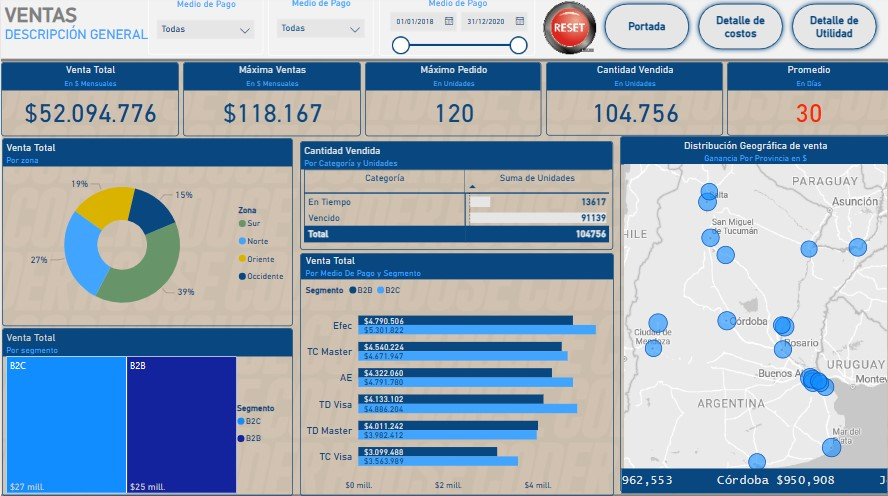

The dashboard page shown, as its layout file describes it:
{"tool":"powerbi","page":{"name":"Detalle de Ventas","canvas":[1280,720],"ordinal":2},"visuals":[{"type":"card","title":"Promedio","fields":{"Values":["Dax Medidas.AVG Dif Días"]},"box":[1046,95.4,234,106],"z":0},{"type":"treemap","title":"Venta Total","fields":{"Group":["Dim_Vendedores.Segmento"],"Values":["Dax Medidas.Total de Ventas"]},"box":[1,478,419,242],"z":1000},{"type":"textbox","box":[0,5.8,237.6,82.1],"z":2000},{"type":"slicer","title":"Medio de Pago","fields":{"Values":["Dim_Territorios.Ciudad"]},"box":[211,2.1,165.7,82.8],"z":3000},{"type":"slicer","title":"Medio de Pago","fields":{"Values":["Tiempo.Fecha"]},"box":[543.9,0.5,225.1,86],"z":4000},{"type":"slicer","title":"Medio de Pago","fields":{"Values":["Dim_Medios_de_Pago.Categoría de pago"]},"box":[384.5,0.5,151.6,86],"z":5000},{"type":"card","title":"Venta Total","fields":{"Values":["Dax Medidas.Total de Ventas"]},"box":[0,95,255.7,106.8],"z":6000},{"type":"card","title":"Máximo Pedido","fields":{"Values":["Dax Medidas.Max pedido de unidades"]},"box":[524.1,95,254.2,106.8],"z":7000},{"type":"map","title":"Distribución Geográfica de venta","fields":{"Size":["Dax Medidas.Total de Ventas"],"Y":["Dim_Territorios.Latitud"],"X":["Dim_Territorios.Longitud"]},"box":[891.4,201.6,388.8,512.6],"z":8000},{"type":"ScrollingTextVisual1448795304508","fields":{"Measure Absolute":["Dax Medidas.Rentabilidad"],"Category":["Dim_Territorios.Ciudad"]},"box":[888.5,675.4,391.7,44.6],"z":9000},{"type":"card","title":"Máxima Ventas","fields":{"Values":["Dax Medidas.Máxima Venta ($)"]},"box":[262.1,95,255.7,106.8],"z":10000},{"type":"donutChart","title":"Venta Total","fields":{"Category":["Dim_Vendedores.Zona"],"Y":["Dax Medidas.Total de Ventas"]},"box":[1,204,419,270.7],"z":11000},{"type":"clusteredBarChart","title":"Venta Total","fields":{"Category":["Dim_Medios_de_Pago.Descripción Abreviada"],"Y":["Dax Medidas.Total de Ventas"],"Series":["Dim_Vendedores.Segmento"]},"box":[430.6,370.1,452,349.9],"z":12000},{"type":"card","title":"Cantidad Vendida","fields":{"Values":["Dax Medidas.Total de Cantidades Vendidas"]},"box":[784.6,95.4,255,106],"z":13000},{"type":"pivotTable","title":"Cantidad Vendida","fields":{"Rows":["Fact_Ventas.Categoría"],"Values":["Sum(Fact_Ventas.Cantidad )"]},"box":[430,208.6,451.4,157],"z":14000},{"type":"pageNavigator","box":[862.7,4.7,406.3,79.7],"z":15000},{"type":"image","box":[768.9,3.1,100,86],"z":16000}]}

Visuals, with their boxes in screenshot pixels (x1, y1, x2, y2), scaled from the page's 1280x720 canvas onto the 888x496 screenshot:
"Promedio" card: bbox(726, 66, 887, 139)
"Venta Total" treemap: bbox(1, 329, 291, 495)
textbox: bbox(0, 4, 165, 61)
"Medio de Pago" slicer: bbox(146, 1, 261, 58)
"Medio de Pago" slicer: bbox(377, 0, 533, 60)
"Medio de Pago" slicer: bbox(267, 0, 372, 60)
"Venta Total" card: bbox(0, 65, 177, 139)
"Máximo Pedido" card: bbox(364, 65, 540, 139)
"Distribución Geográfica de venta" map: bbox(618, 139, 887, 492)
ScrollingTextVisual1448795304508 - Dax Medidas.Rentabilidad x Dim_Territorios.Ciudad: bbox(616, 465, 887, 495)
"Máxima Ventas" card: bbox(182, 65, 359, 139)
"Venta Total" donutChart: bbox(1, 141, 291, 327)
"Venta Total" clusteredBarChart: bbox(299, 255, 612, 495)
"Cantidad Vendida" card: bbox(544, 66, 721, 139)
"Cantidad Vendida" pivotTable: bbox(298, 144, 611, 252)
pageNavigator: bbox(598, 3, 880, 58)
image: bbox(533, 2, 603, 61)
